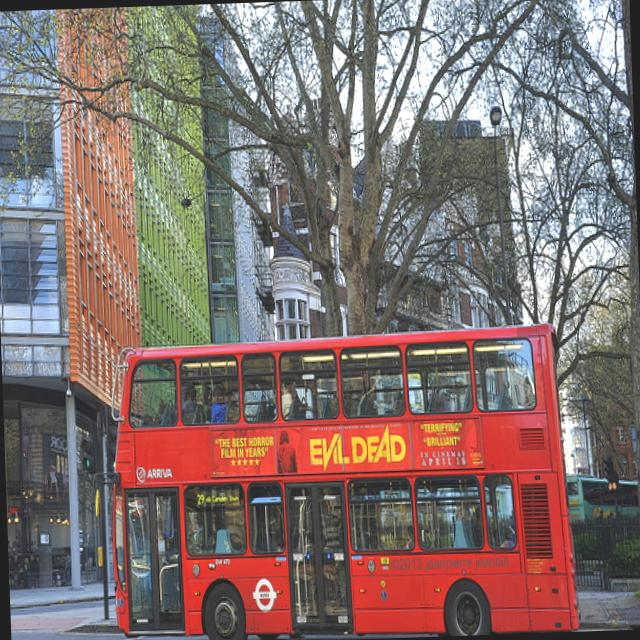Vehicle: (102, 323, 580, 640)
